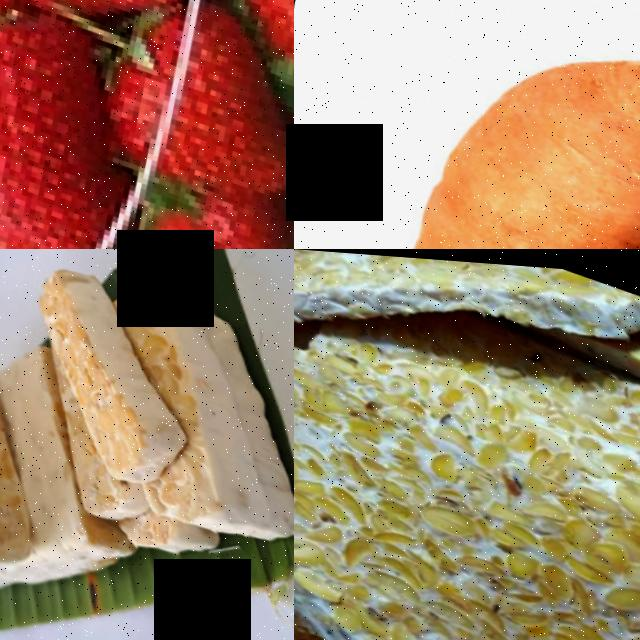strawberry: (93, 0, 294, 207), (0, 0, 132, 249)
sweet potato: (416, 0, 640, 249), (348, 185, 563, 249)
tempeh: (294, 249, 640, 434), (337, 466, 640, 640), (0, 253, 212, 480), (294, 313, 442, 625), (572, 359, 640, 607), (0, 330, 58, 584)
